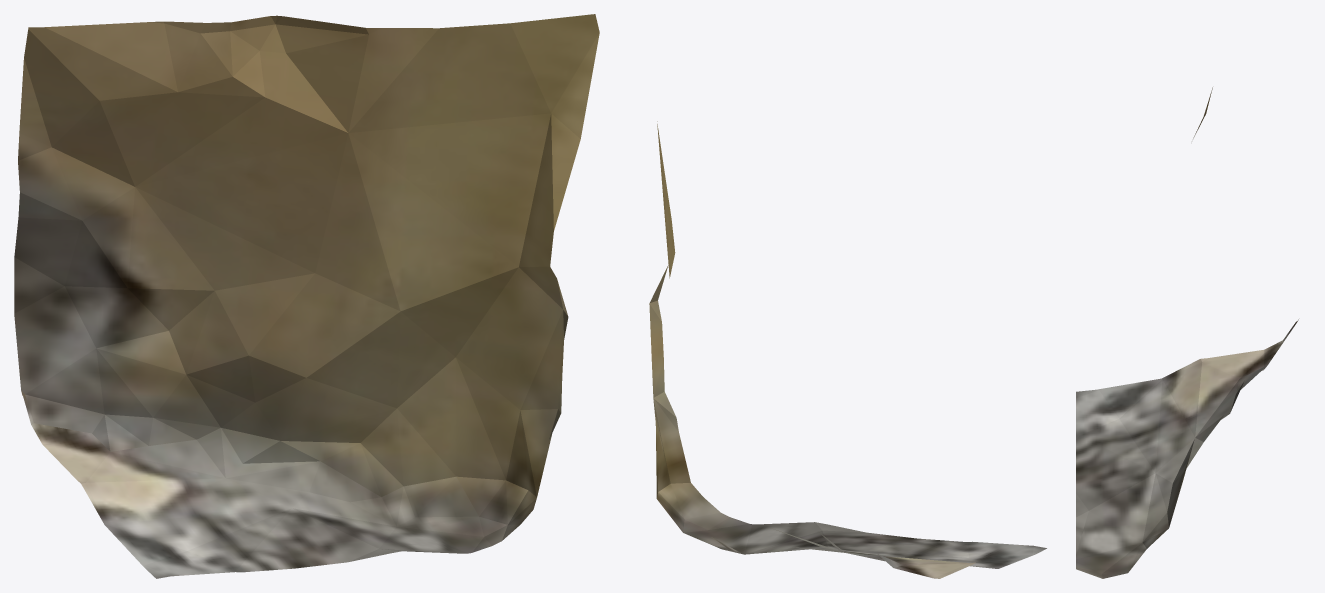
3 views of the same model, side by side, from view 1: azimuth 30°, elevation 25°; view 2: azimuth 150°, elevation 25°; view 3: azimuth 270°, elevation 25° (orthographic). The views are drawn at different scales.
Bounding box in the file's own units: 0.407 × 0.4482 × 0.2261.
Materials: 1 (1 with a texture image).
